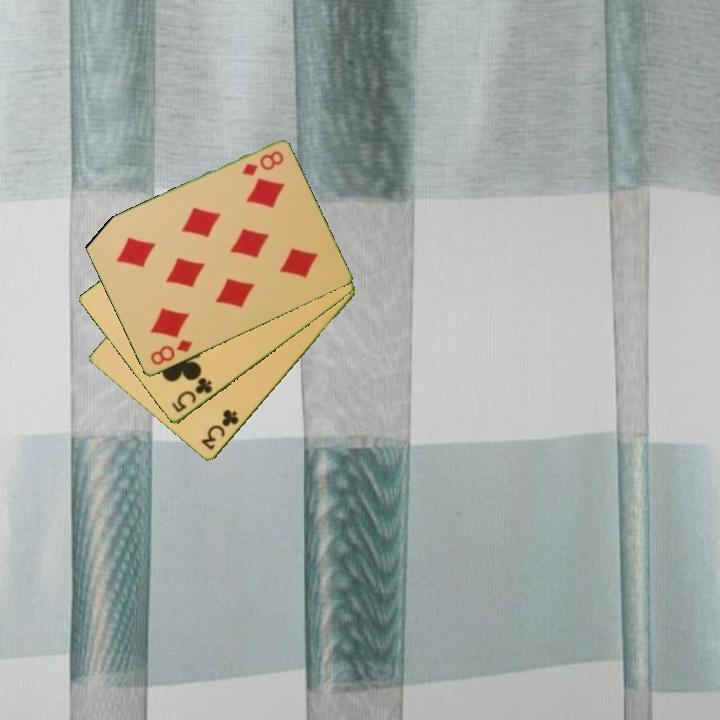3c: (198, 406, 242, 453)
5c: (168, 374, 215, 416)
8d: (147, 336, 195, 369), (238, 147, 286, 179)
